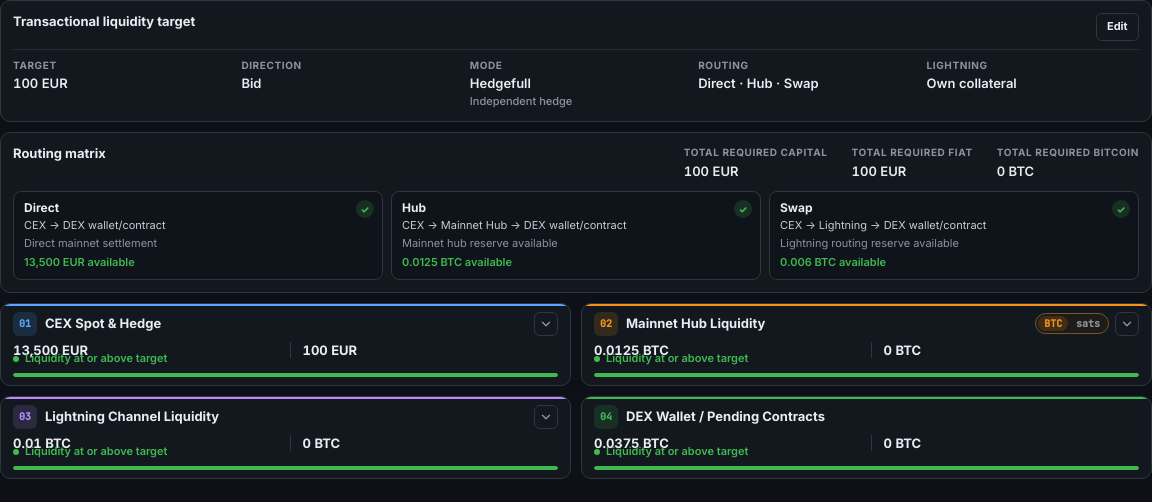
Scenario: LiquidityWorkspace › switches to hedgeless mode and uses the fiat target converted to BTC for LND and Lightning
The image size is (1152, 502).
Click the button "Edit".
click(1117, 27)  # box [1096,13,1139,41]
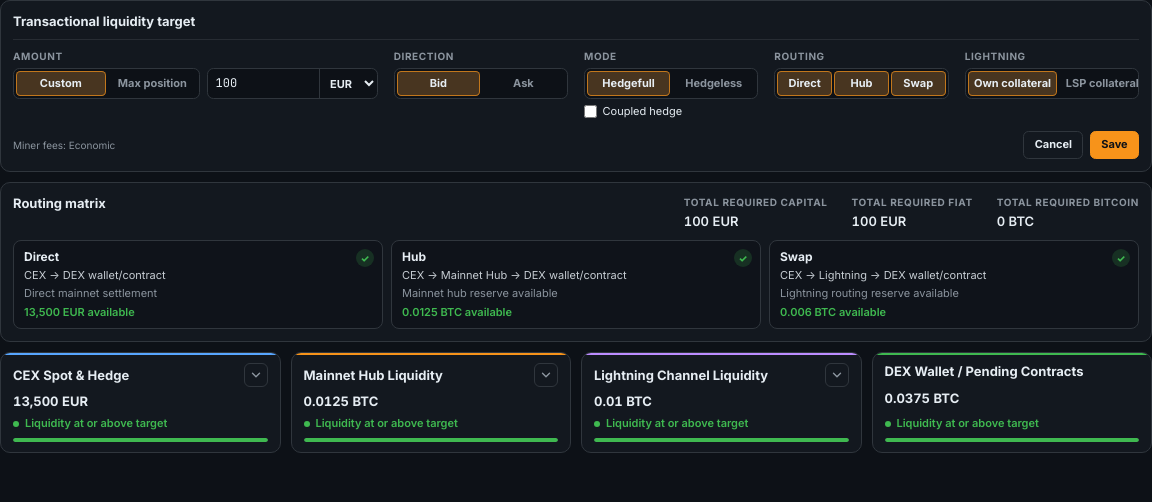
Expected: the button with aria-label "Direct routing" is shown, [777,71,832,96]
Click the radio button labelled "Hedgeless".
click(714, 83)  # box [685,76,742,90]
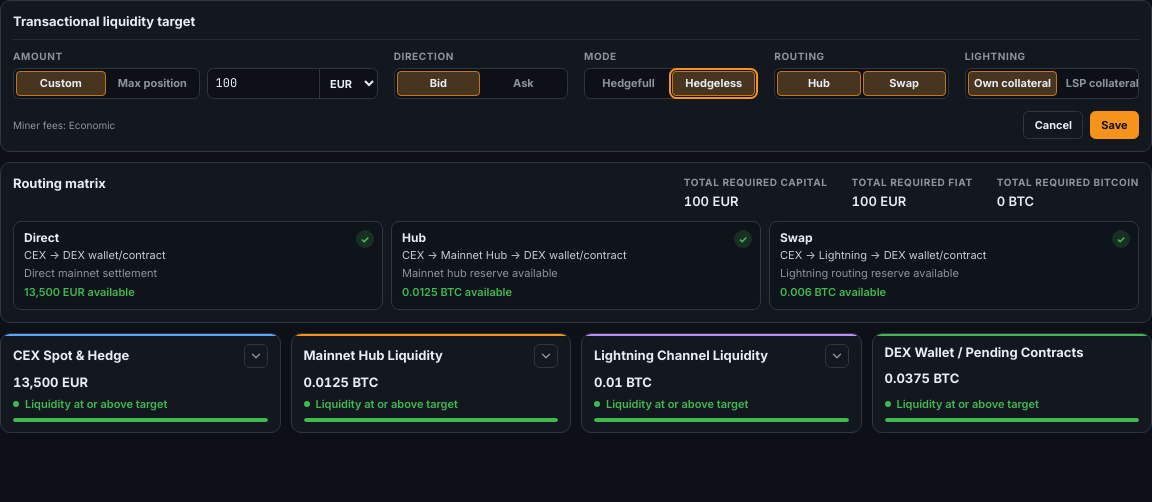
Click the button "Save".
click(1114, 125)  # box [1090,111,1139,139]
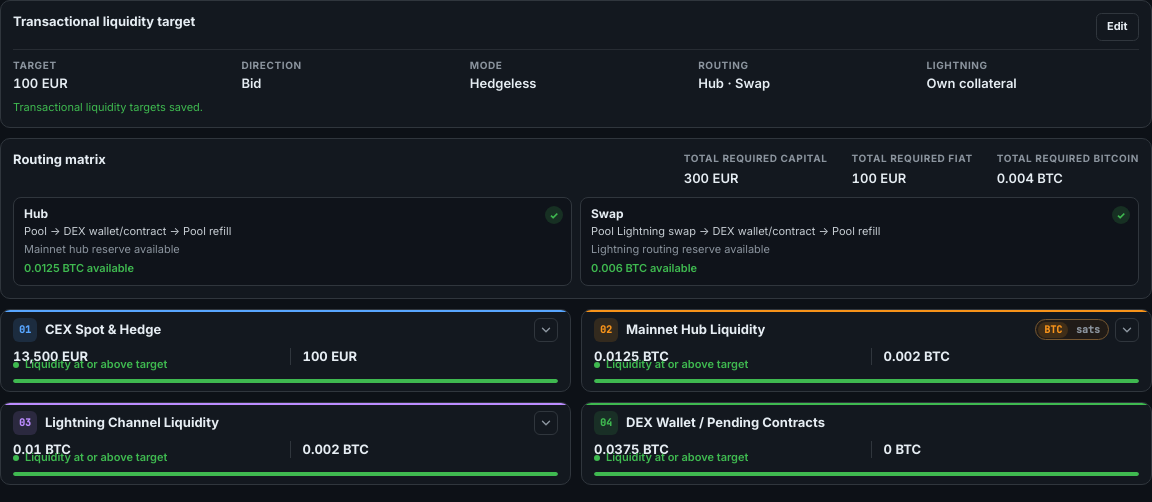
Expected: the text "0.002 BTC" is shown 2 times, [884,348,950,365]; [302,441,369,458]
